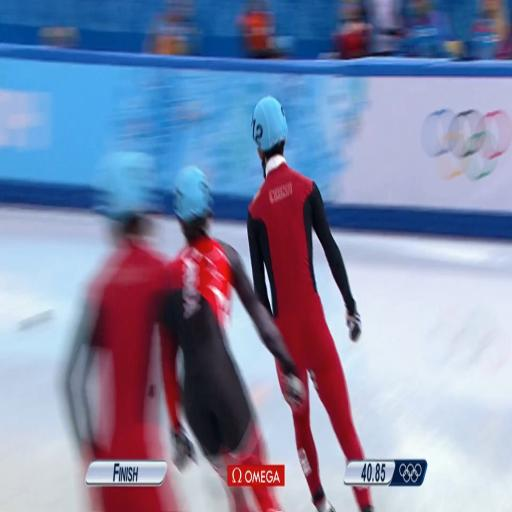Skater: (161, 167, 303, 481), (248, 97, 363, 459), (65, 152, 168, 465)
